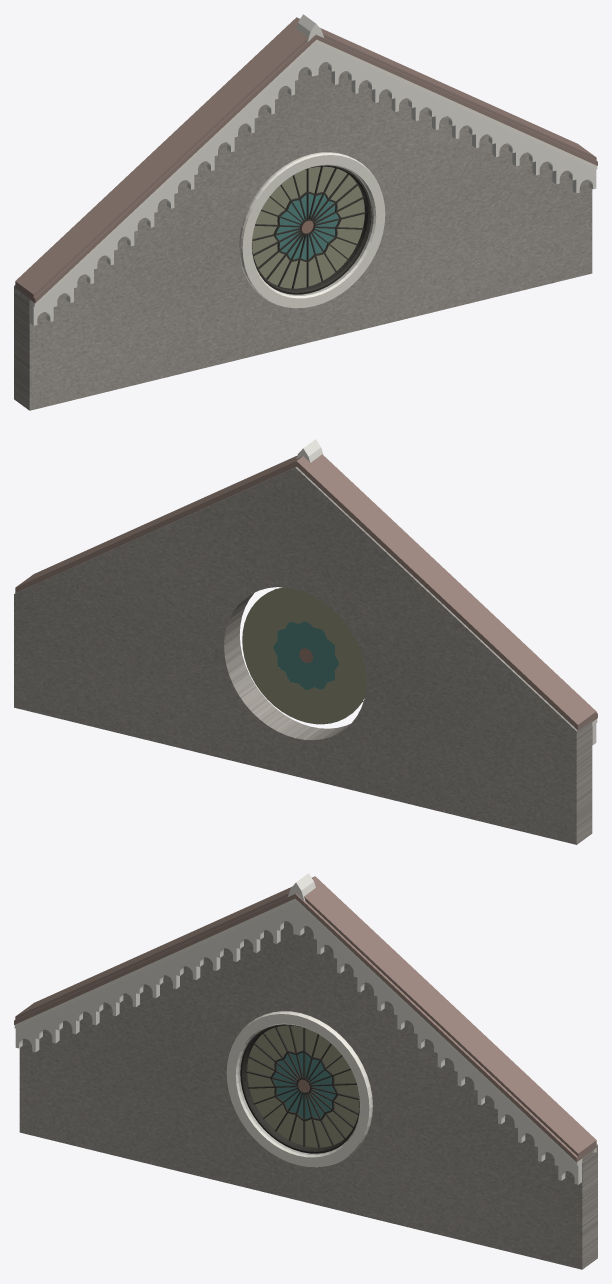
The model's file is st-marys-oculus-far.glb.
The picture shows the model from 3 angles, top to bottom: view 1: azimuth 30°, elevation 25°; view 2: azimuth 150°, elevation 25°; view 3: azimuth 330°, elevation 25°; orthographic projection.
Parts seen in each view (by area): view 1: 圣玛利亚女中礼堂山墙圆窗与拱饰; view 2: 圣玛利亚女中礼堂山墙圆窗与拱饰; view 3: 圣玛利亚女中礼堂山墙圆窗与拱饰.
Boxes of the visible parts, <box> form: 圣玛利亚女中礼堂山墙圆窗与拱饰: <box>14,14,597,410</box>; 圣玛利亚女中礼堂山墙圆窗与拱饰: <box>14,439,597,844</box>; 圣玛利亚女中礼堂山墙圆窗与拱饰: <box>14,873,597,1269</box>.
Bounding box in the file's own units: 7.84 × 4.29 × 0.513.
Materials: 9 (1 with a texture image).
